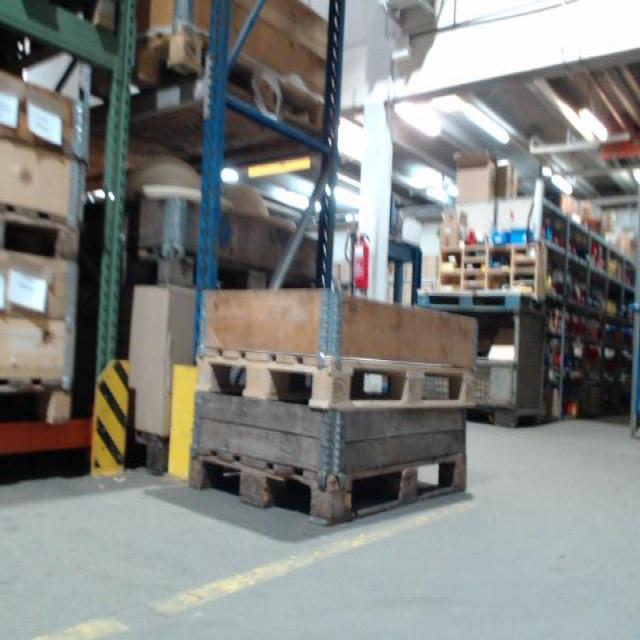pallet: (90, 25, 330, 152), (188, 446, 469, 528), (196, 344, 477, 412), (0, 199, 82, 265), (0, 378, 74, 425)
stillage: (399, 289, 556, 430)
